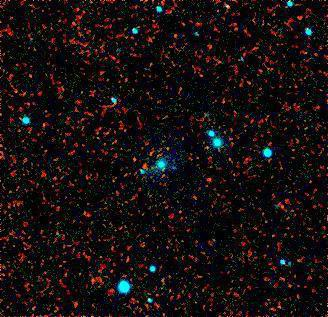star: (119, 148, 149, 178)
